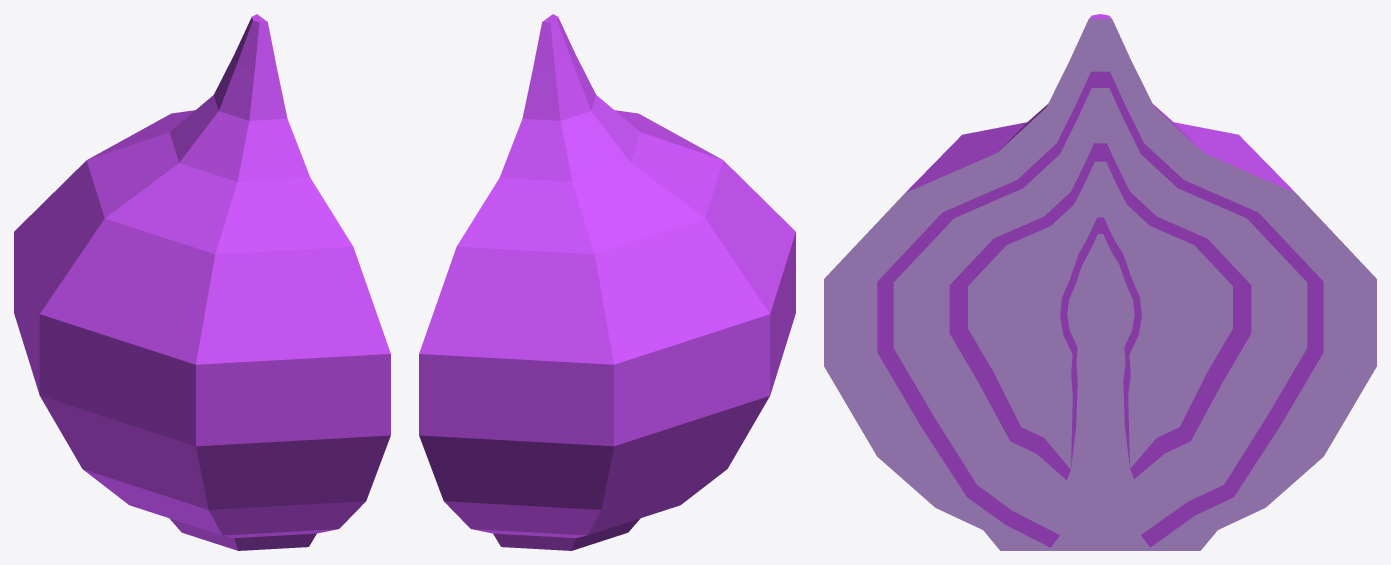
File: onion02.gltf
The picture shows the model from 3 angles, left to right: view 1: azimuth 30°, elevation 25°; view 2: azimuth 150°, elevation 25°; view 3: azimuth 270°, elevation 25°; orthographic projection. The views are drawn at different scales.
Parts seen in each view (by area): view 1: Cylinder.001; view 2: Cylinder.001; view 3: Cylinder.001.
Boxes of the visible parts, <box> form: Cylinder.001: <box>14,14,390,550</box>; Cylinder.001: <box>419,14,795,550</box>; Cylinder.001: <box>824,14,1376,550</box>.
Bounding box in the file's own units: 0.0346 × 0.0735 × 0.0692.
1 material, 1 textured.
